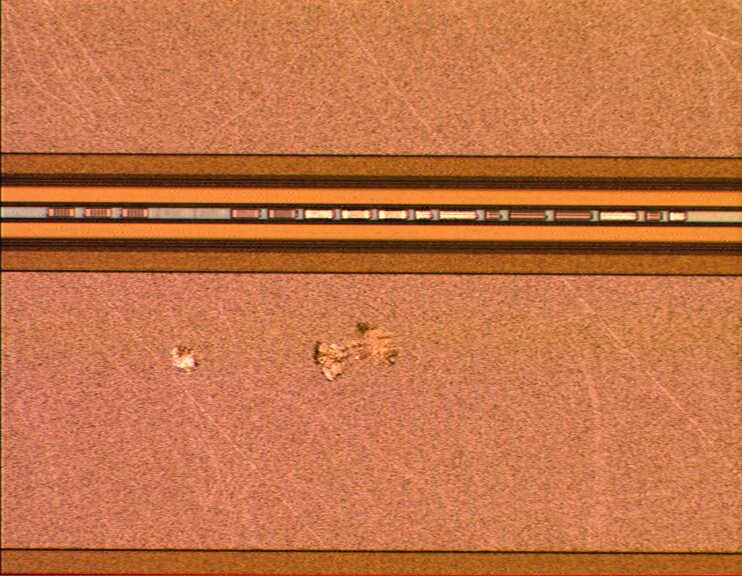SCRATCH: (162, 320, 411, 382)
